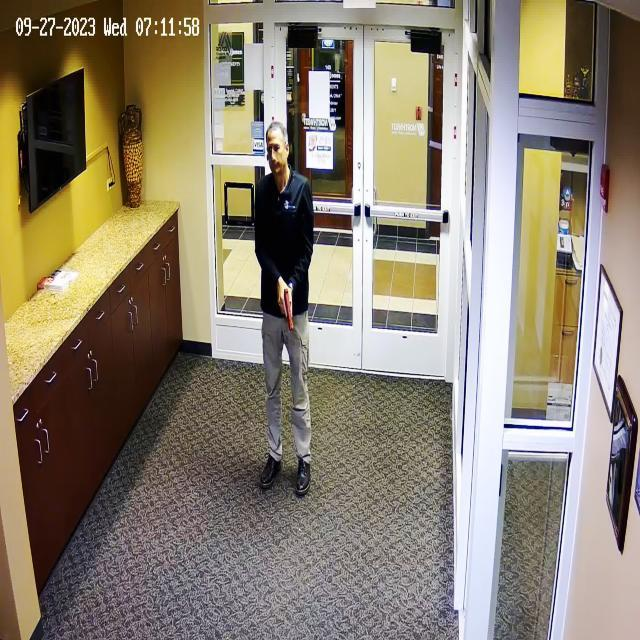Gun: (276, 272, 308, 339)
